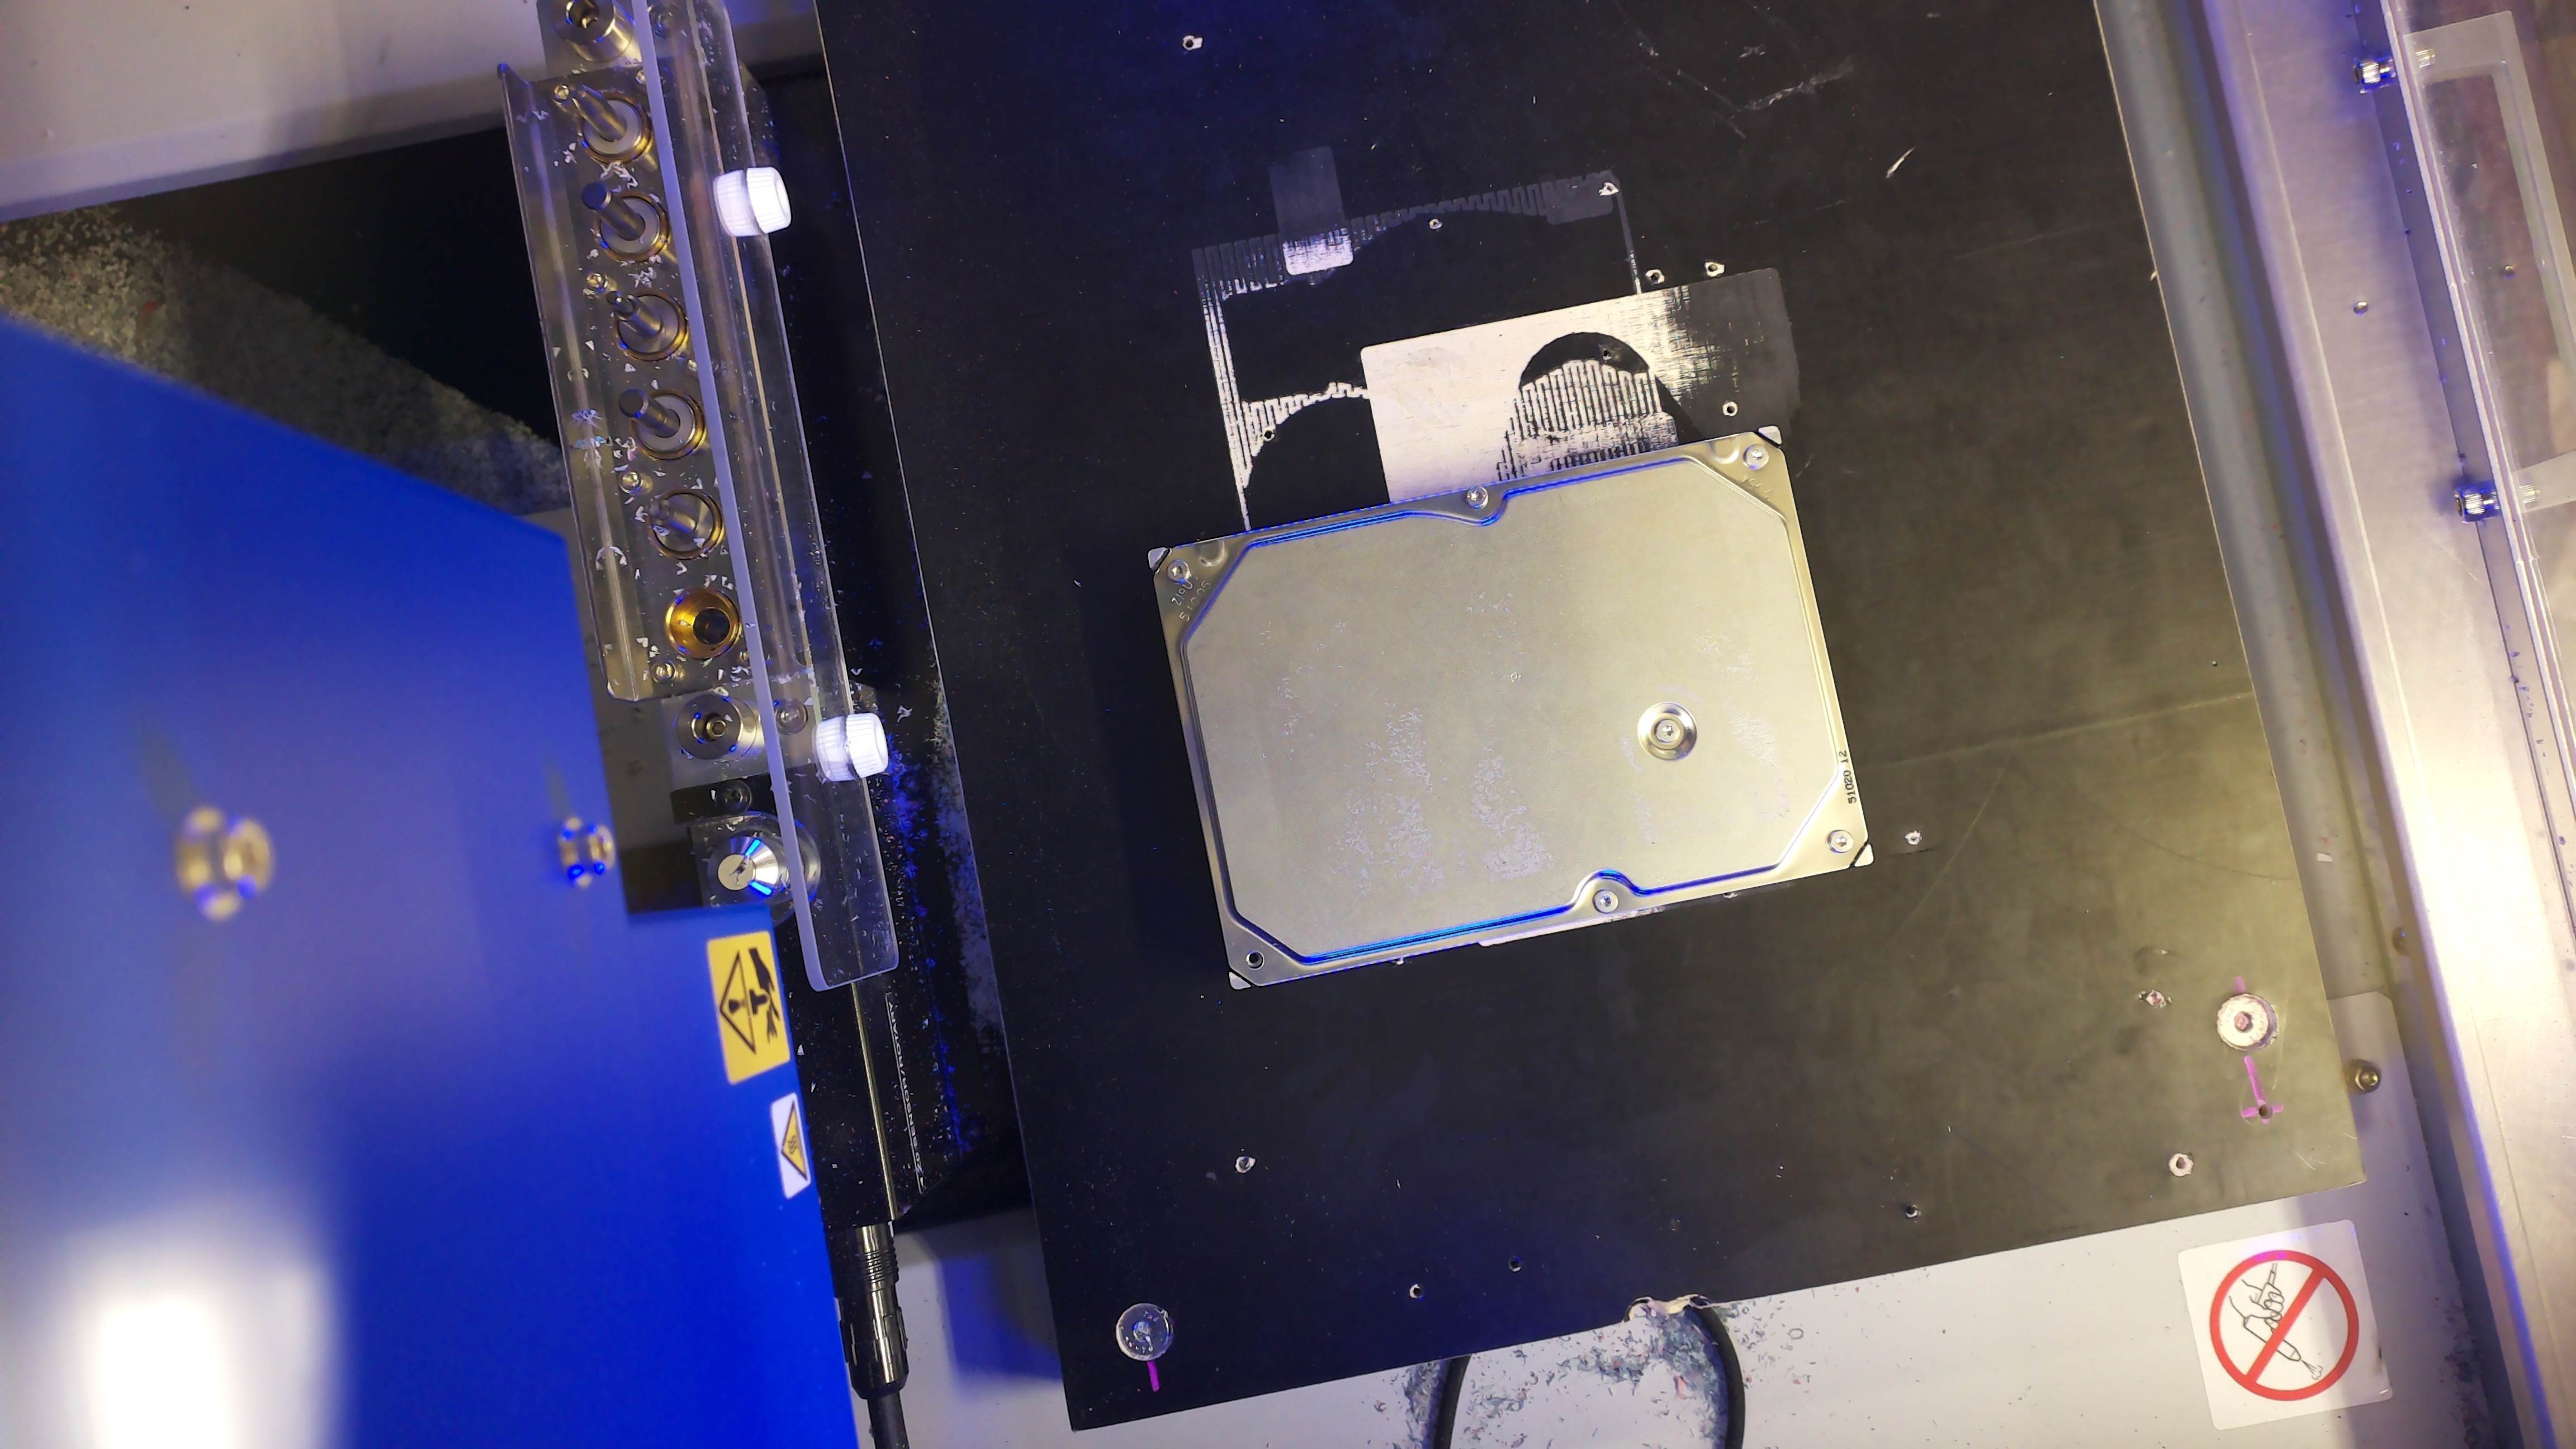Hole: (1246, 950, 1265, 970)
Screw: (1743, 442, 1769, 469), (1656, 718, 1681, 743), (1166, 557, 1191, 582), (1592, 890, 1619, 913), (1828, 830, 1854, 853), (1467, 485, 1488, 510)
